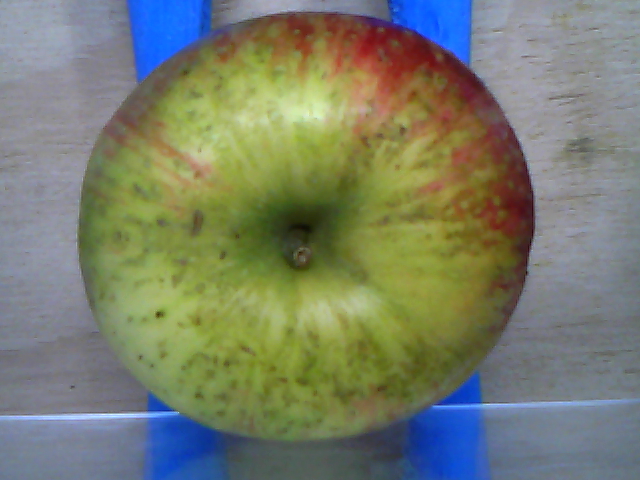stem: (289, 226, 311, 270)
